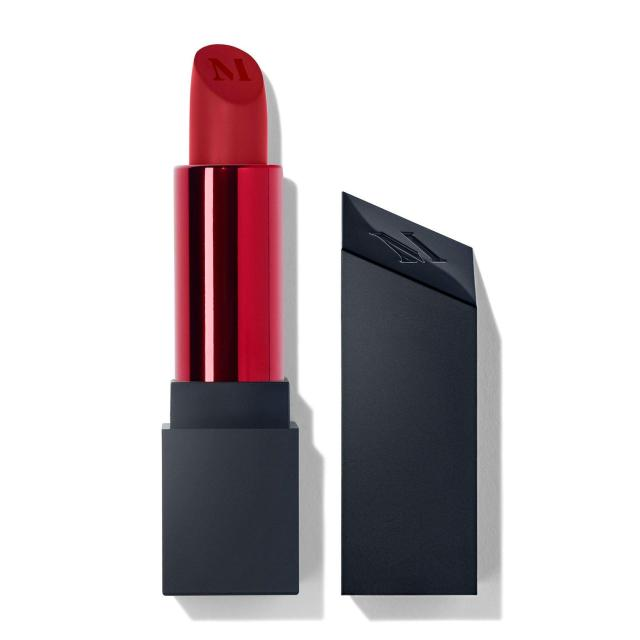lipstick: (145, 19, 319, 583)
